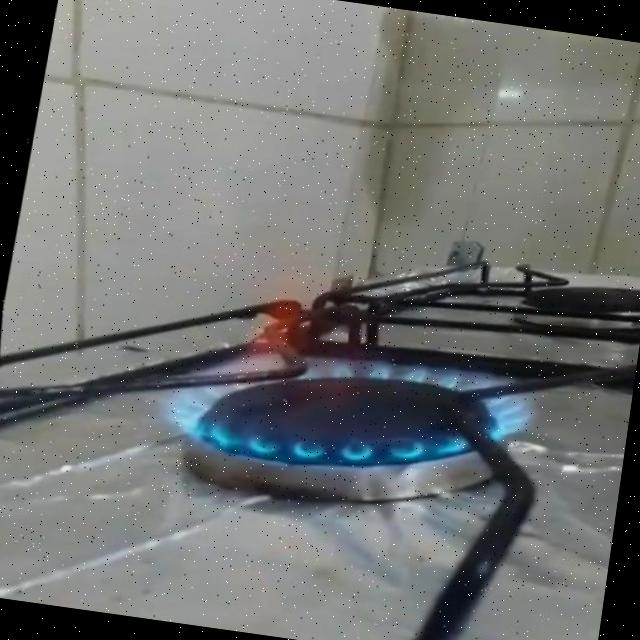fire: (135, 231, 562, 520)
